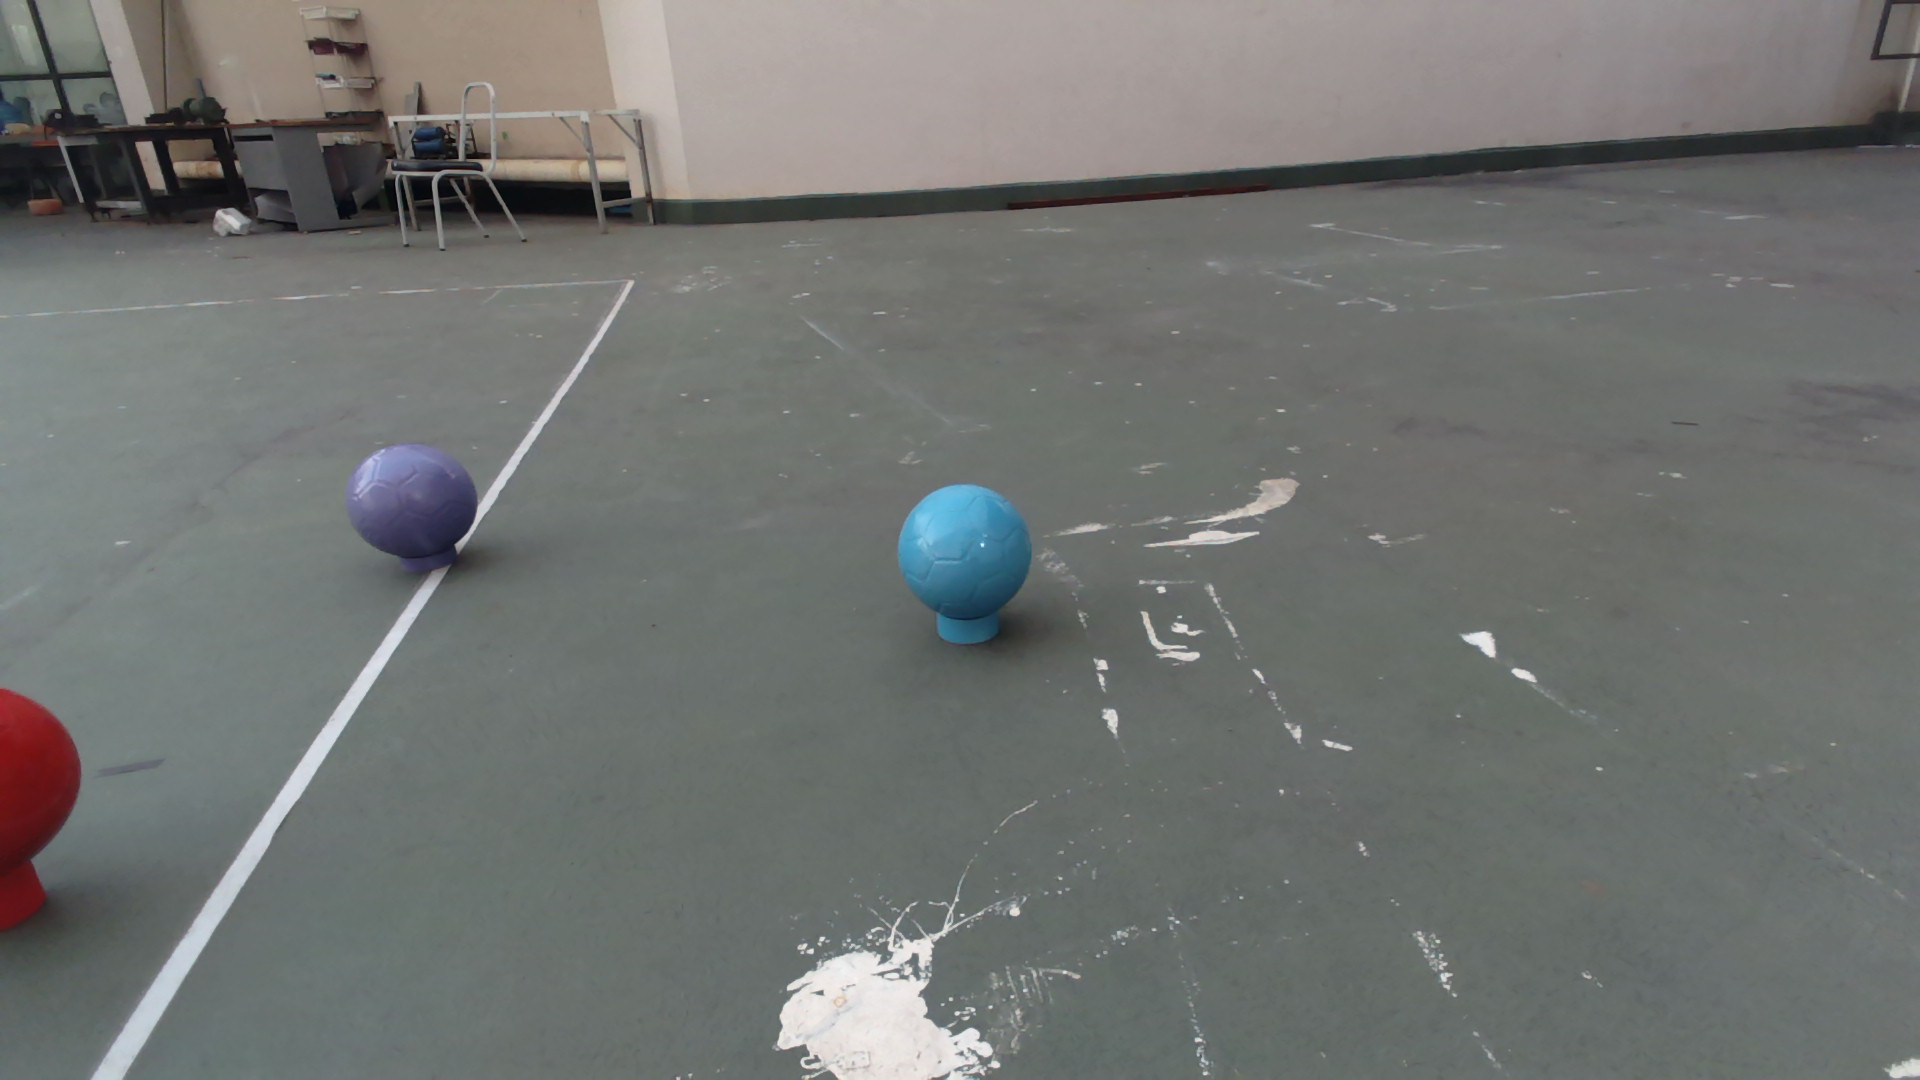Blue ball: (893, 483, 1034, 624)
Purple ball: (345, 440, 480, 558)
Red ball: (1, 683, 82, 873)
